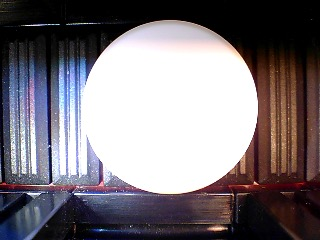BLANK: (82, 19, 258, 194)
